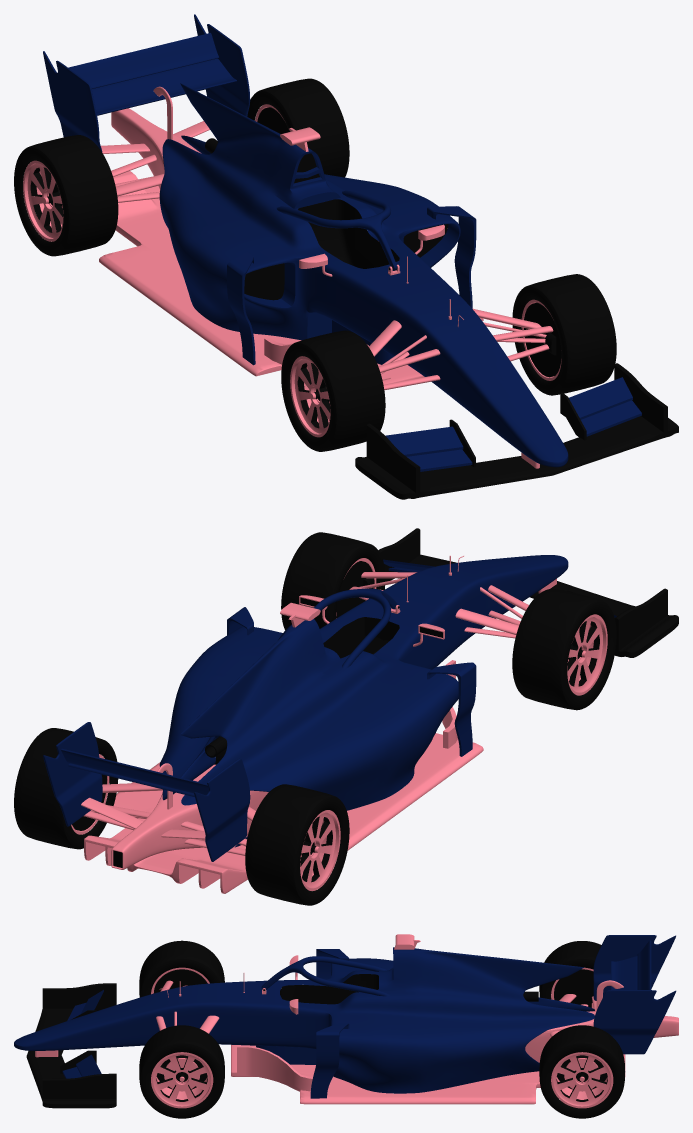
Rendered from Women_accessory_Alpine_5000.40303f92.glb.
3 views of the same model, one above another, from view 1: azimuth 30°, elevation 25°; view 2: azimuth 150°, elevation 25°; view 3: azimuth 270°, elevation 25° (orthographic). The views are drawn at different scales.
Parts seen in each view (by area): view 1: _gltfNode_0, _gltfNode_3, _gltfNode_13, _gltfNode_16, _gltfNode_4, _gltfNode_2, _gltfNode_10, _gltfNode_1, _gltfNode_14, _gltfNode_17; view 2: _gltfNode_0, _gltfNode_3, _gltfNode_16, _gltfNode_13, _gltfNode_4, _gltfNode_17, _gltfNode_14, _gltfNode_2, _gltfNode_10; view 3: _gltfNode_0, _gltfNode_3, _gltfNode_13, _gltfNode_4, _gltfNode_16, _gltfNode_10, _gltfNode_14, _gltfNode_17, _gltfNode_2, _gltfNode_9.
Part boxes in pixels (left/top/right/bottom): _gltfNode_0: left=43, top=14, right=641, bottom=471; _gltfNode_3: left=99, top=86, right=553, bottom=468; _gltfNode_13: left=281, top=274, right=616, bottom=451; _gltfNode_16: left=14, top=78, right=349, bottom=256; _gltfNode_4: left=355, top=363, right=678, bottom=499; _gltfNode_2: left=298, top=199, right=399, bottom=268; _gltfNode_10: left=47, top=107, right=561, bottom=401; _gltfNode_1: left=244, top=153, right=448, bottom=300; _gltfNode_14: left=290, top=299, right=561, bottom=437; _gltfNode_17: left=23, top=104, right=284, bottom=241; _gltfNode_0: left=43, top=555, right=616, bottom=861; _gltfNode_3: left=81, top=555, right=556, bottom=893; _gltfNode_16: left=14, top=728, right=349, bottom=905; _gltfNode_13: left=281, top=532, right=616, bottom=710; _gltfNode_4: left=378, top=528, right=678, bottom=657; _gltfNode_17: left=71, top=754, right=340, bottom=890; _gltfNode_14: left=336, top=558, right=607, bottom=695; _gltfNode_2: left=323, top=617, right=399, bottom=658; _gltfNode_10: left=72, top=561, right=583, bottom=855; _gltfNode_0: left=14, top=935, right=676, bottom=1098; _gltfNode_3: left=35, top=934, right=678, bottom=1104; _gltfNode_13: left=139, top=940, right=224, bottom=1118; _gltfNode_4: left=26, top=983, right=116, bottom=1108; _gltfNode_16: left=539, top=941, right=625, bottom=1118; _gltfNode_10: left=153, top=969, right=607, bottom=1089; _gltfNode_14: left=151, top=967, right=213, bottom=1108; _gltfNode_17: left=551, top=967, right=613, bottom=1108; _gltfNode_2: left=280, top=974, right=378, bottom=1004; _gltfNode_9: left=164, top=1058, right=600, bottom=1091.
Bounding box in the file's own units: 170 × 99.24 × 463.
